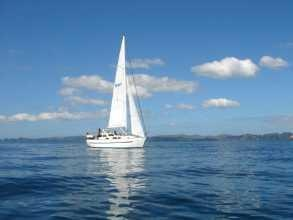fanchuan: (86, 34, 157, 148)
